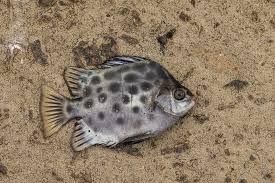Scat Fish: (34, 55, 195, 155)
